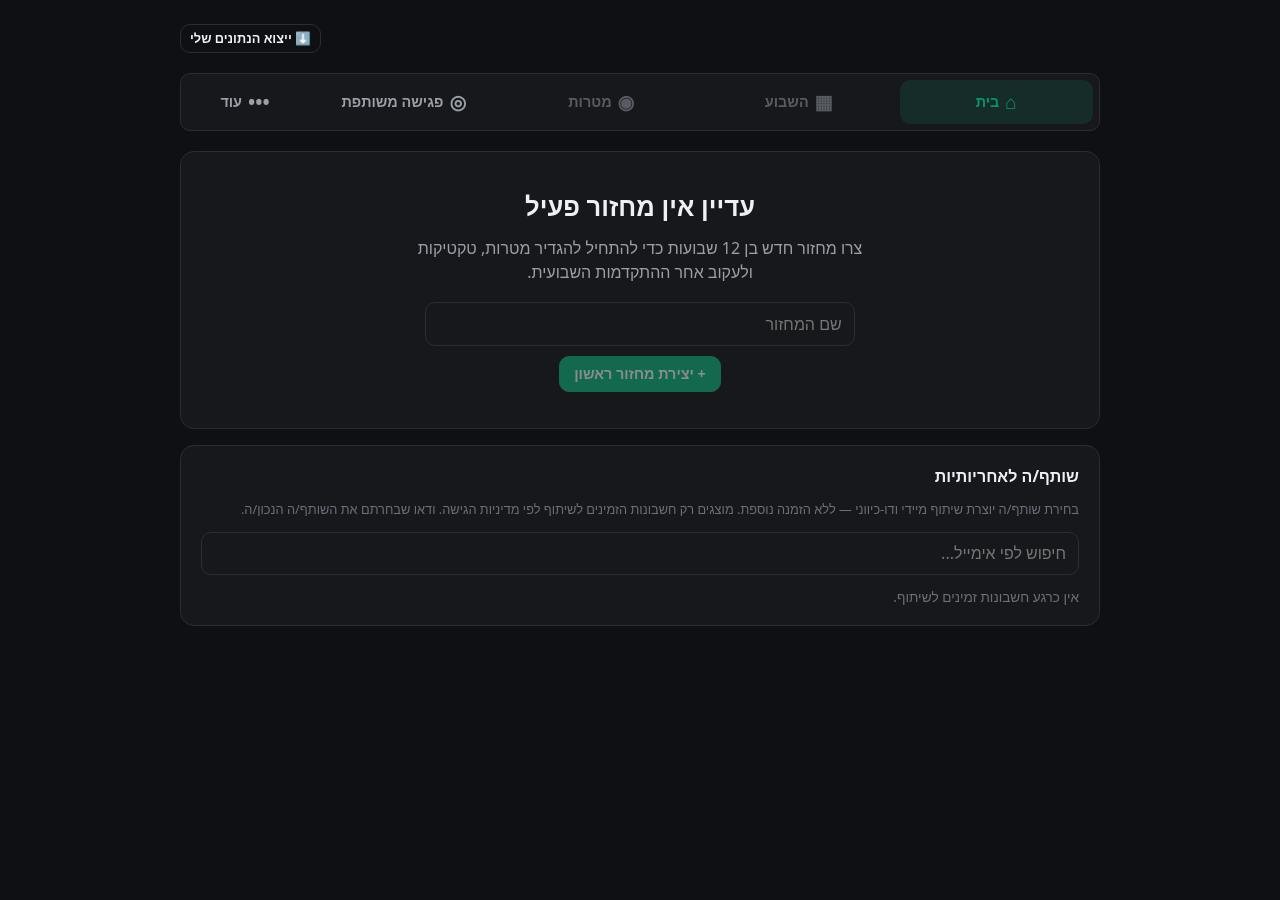
Test: DashboardPage: cycle status cards are scoped to Home (and cycle-dependent tabs) › does NOT show the onboarding card on the cycle-history tab either (also cycle-independent)
Check: the heading "עדיין אין מחזור פעיל" is shown, box [525,188,755,226]
Click the button "••• עוד".
click(245, 102)  # box [187,80,303,124]
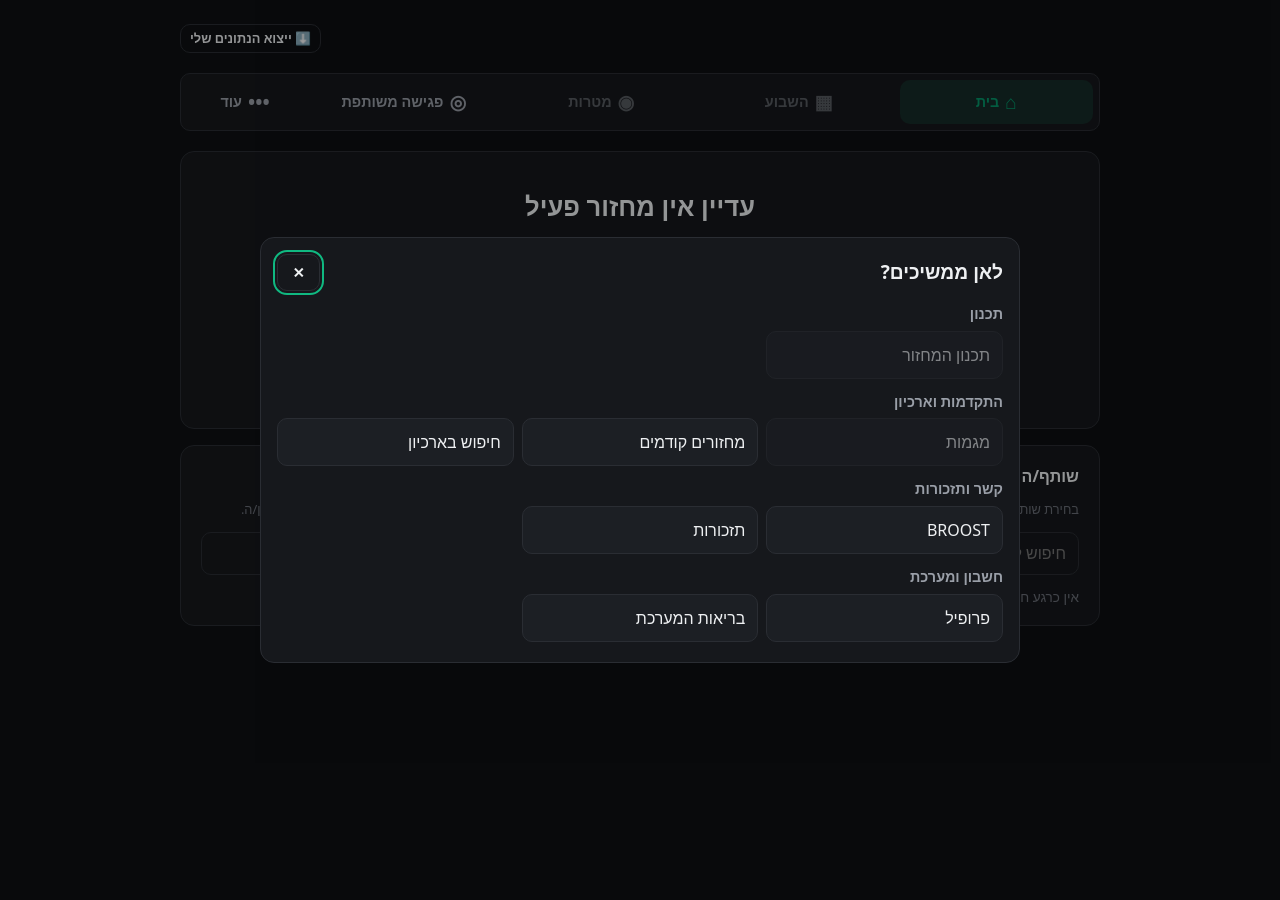
Click the button "מחזורים קודמים".
click(640, 442)  # box [522,418,758,466]
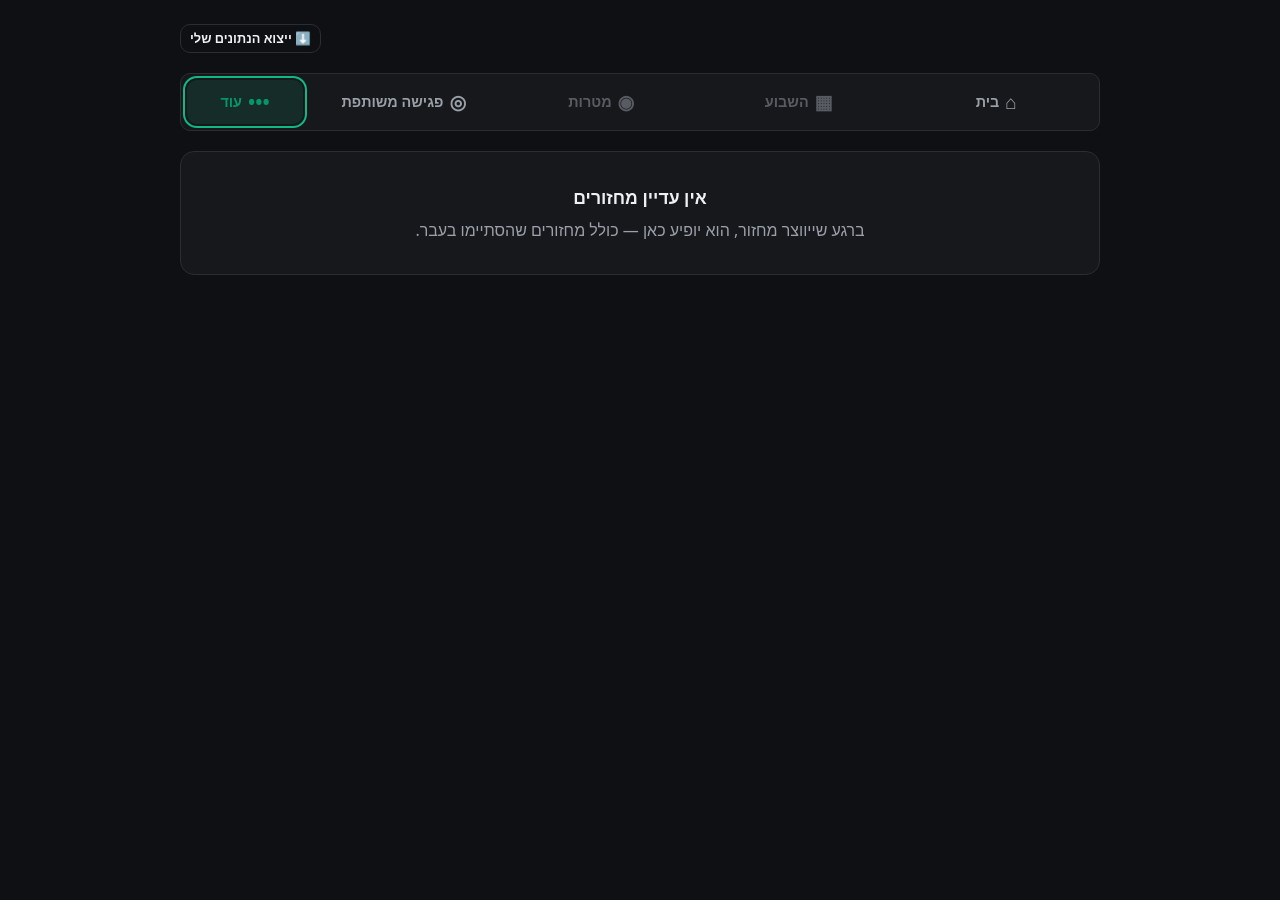
Check: the heading "עדיין אין מחזור פעיל" is gone
